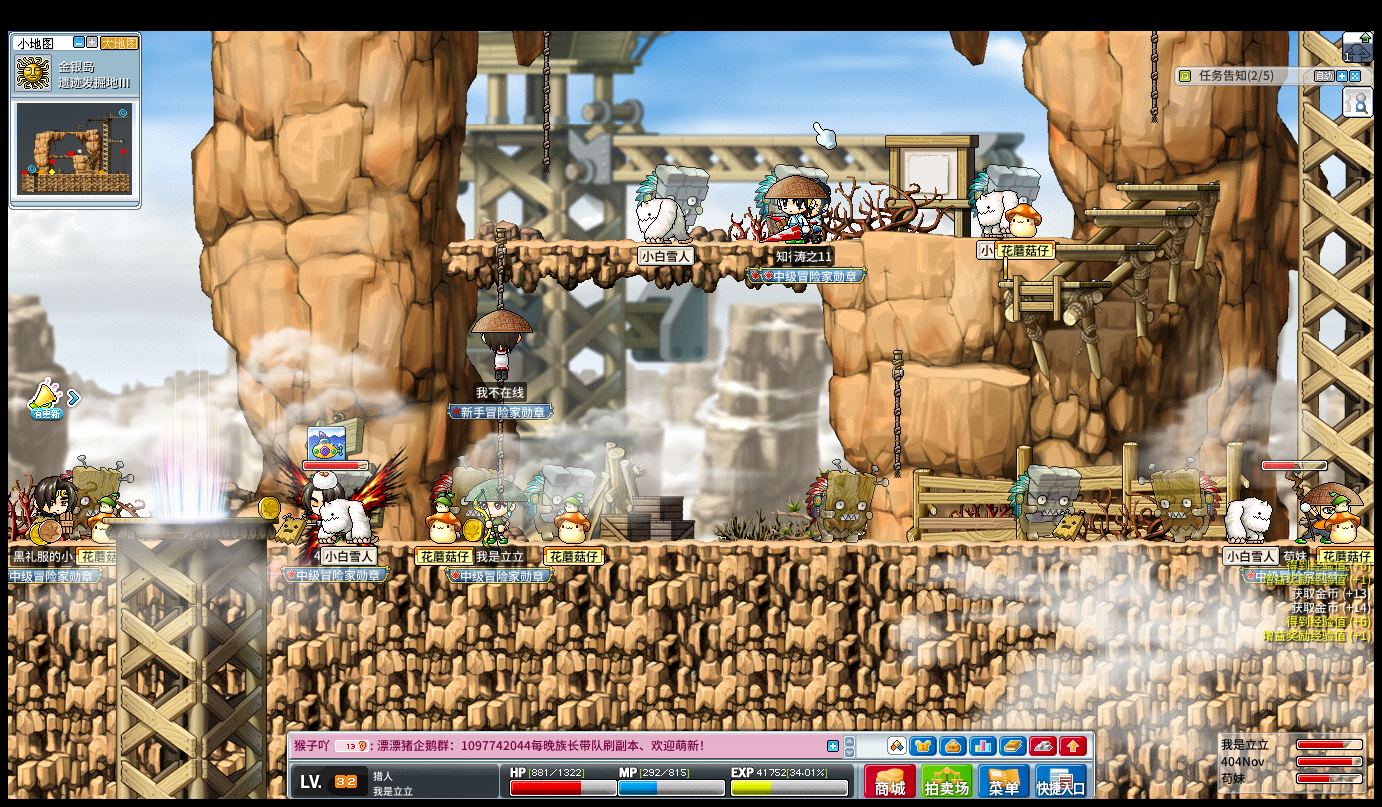floor: (444, 238, 820, 248), (922, 364, 1030, 384), (110, 515, 275, 523), (7, 539, 117, 550), (1081, 205, 1196, 215), (995, 281, 1109, 291), (940, 233, 1080, 241), (996, 280, 1109, 288), (1079, 207, 1191, 215), (1045, 243, 1156, 251), (1115, 184, 1218, 191)
monster: (1142, 458, 1221, 541), (803, 462, 882, 543), (1007, 464, 1080, 541), (637, 163, 709, 234), (69, 458, 129, 514), (638, 164, 709, 210), (986, 165, 1042, 200)
rope: (889, 349, 903, 480), (542, 30, 551, 177), (541, 30, 550, 175), (493, 227, 506, 310), (1148, 29, 1156, 120), (495, 425, 504, 477)
